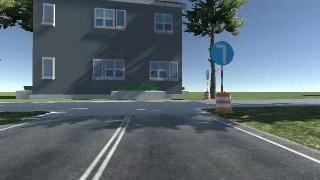turn_left: (209, 41, 234, 65)
